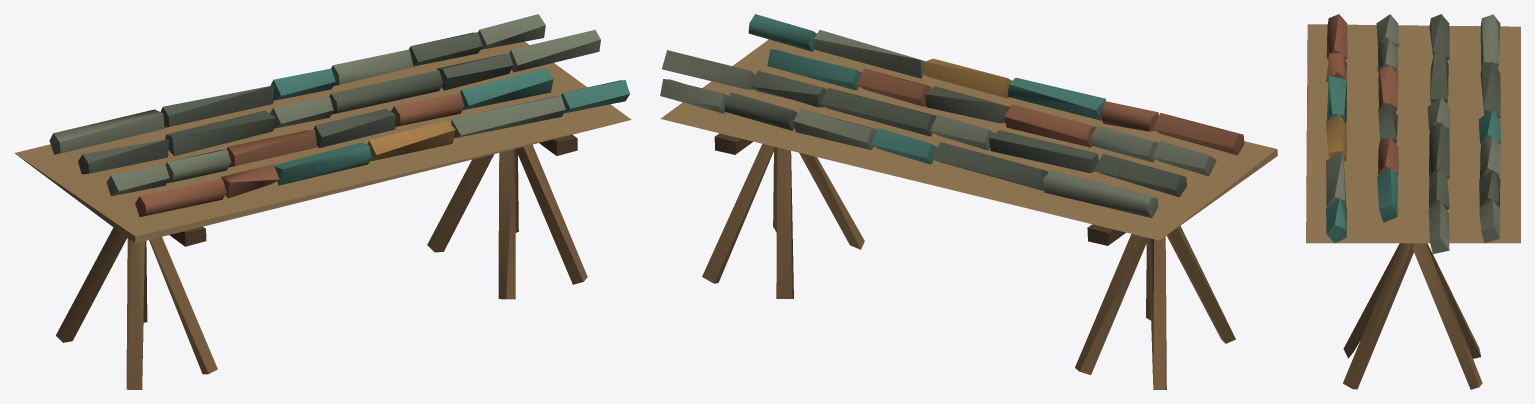
The model's file is core_rack_a_lod2.glb.
3 renders of one model, left to right at view 1: azimuth 30°, elevation 25°; view 2: azimuth 150°, elevation 25°; view 3: azimuth 270°, elevation 25°, orthographic. The views are drawn at different scales.
Visible parts, largest first — view 1: Surface.001; view 2: Surface.001; view 3: Surface.001.
Boxes of the visible parts, left/top/right/bottom form: Surface.001: left=14, top=14, right=631, bottom=389; Surface.001: left=660, top=14, right=1277, bottom=389; Surface.001: left=1306, top=14, right=1520, bottom=389.
Bounding box in the file's own units: 2.6 × 0.9383 × 1.01.
